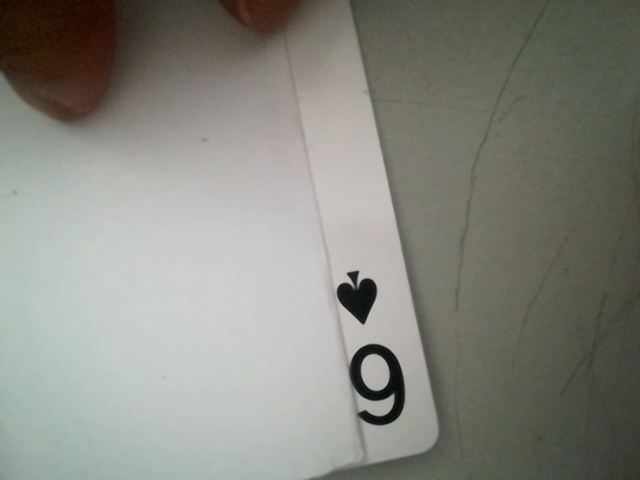ht 6: (326, 256, 427, 445)
